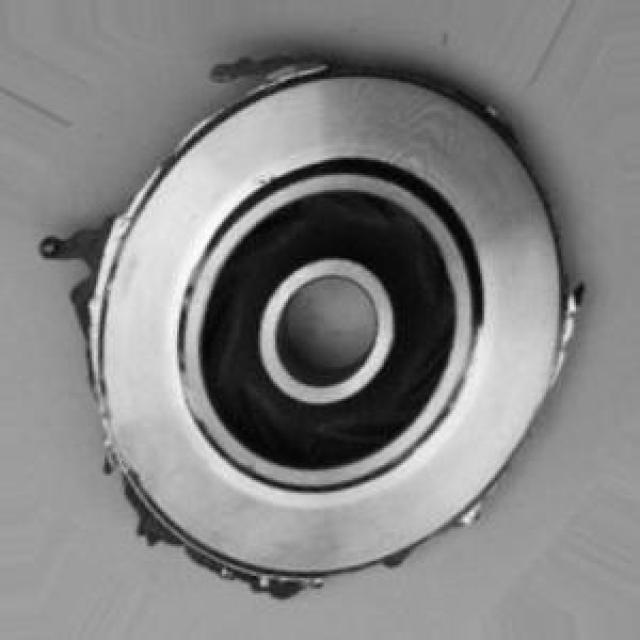Defect: (48, 217, 132, 290), (218, 36, 334, 86), (555, 274, 589, 354), (128, 492, 168, 551)
